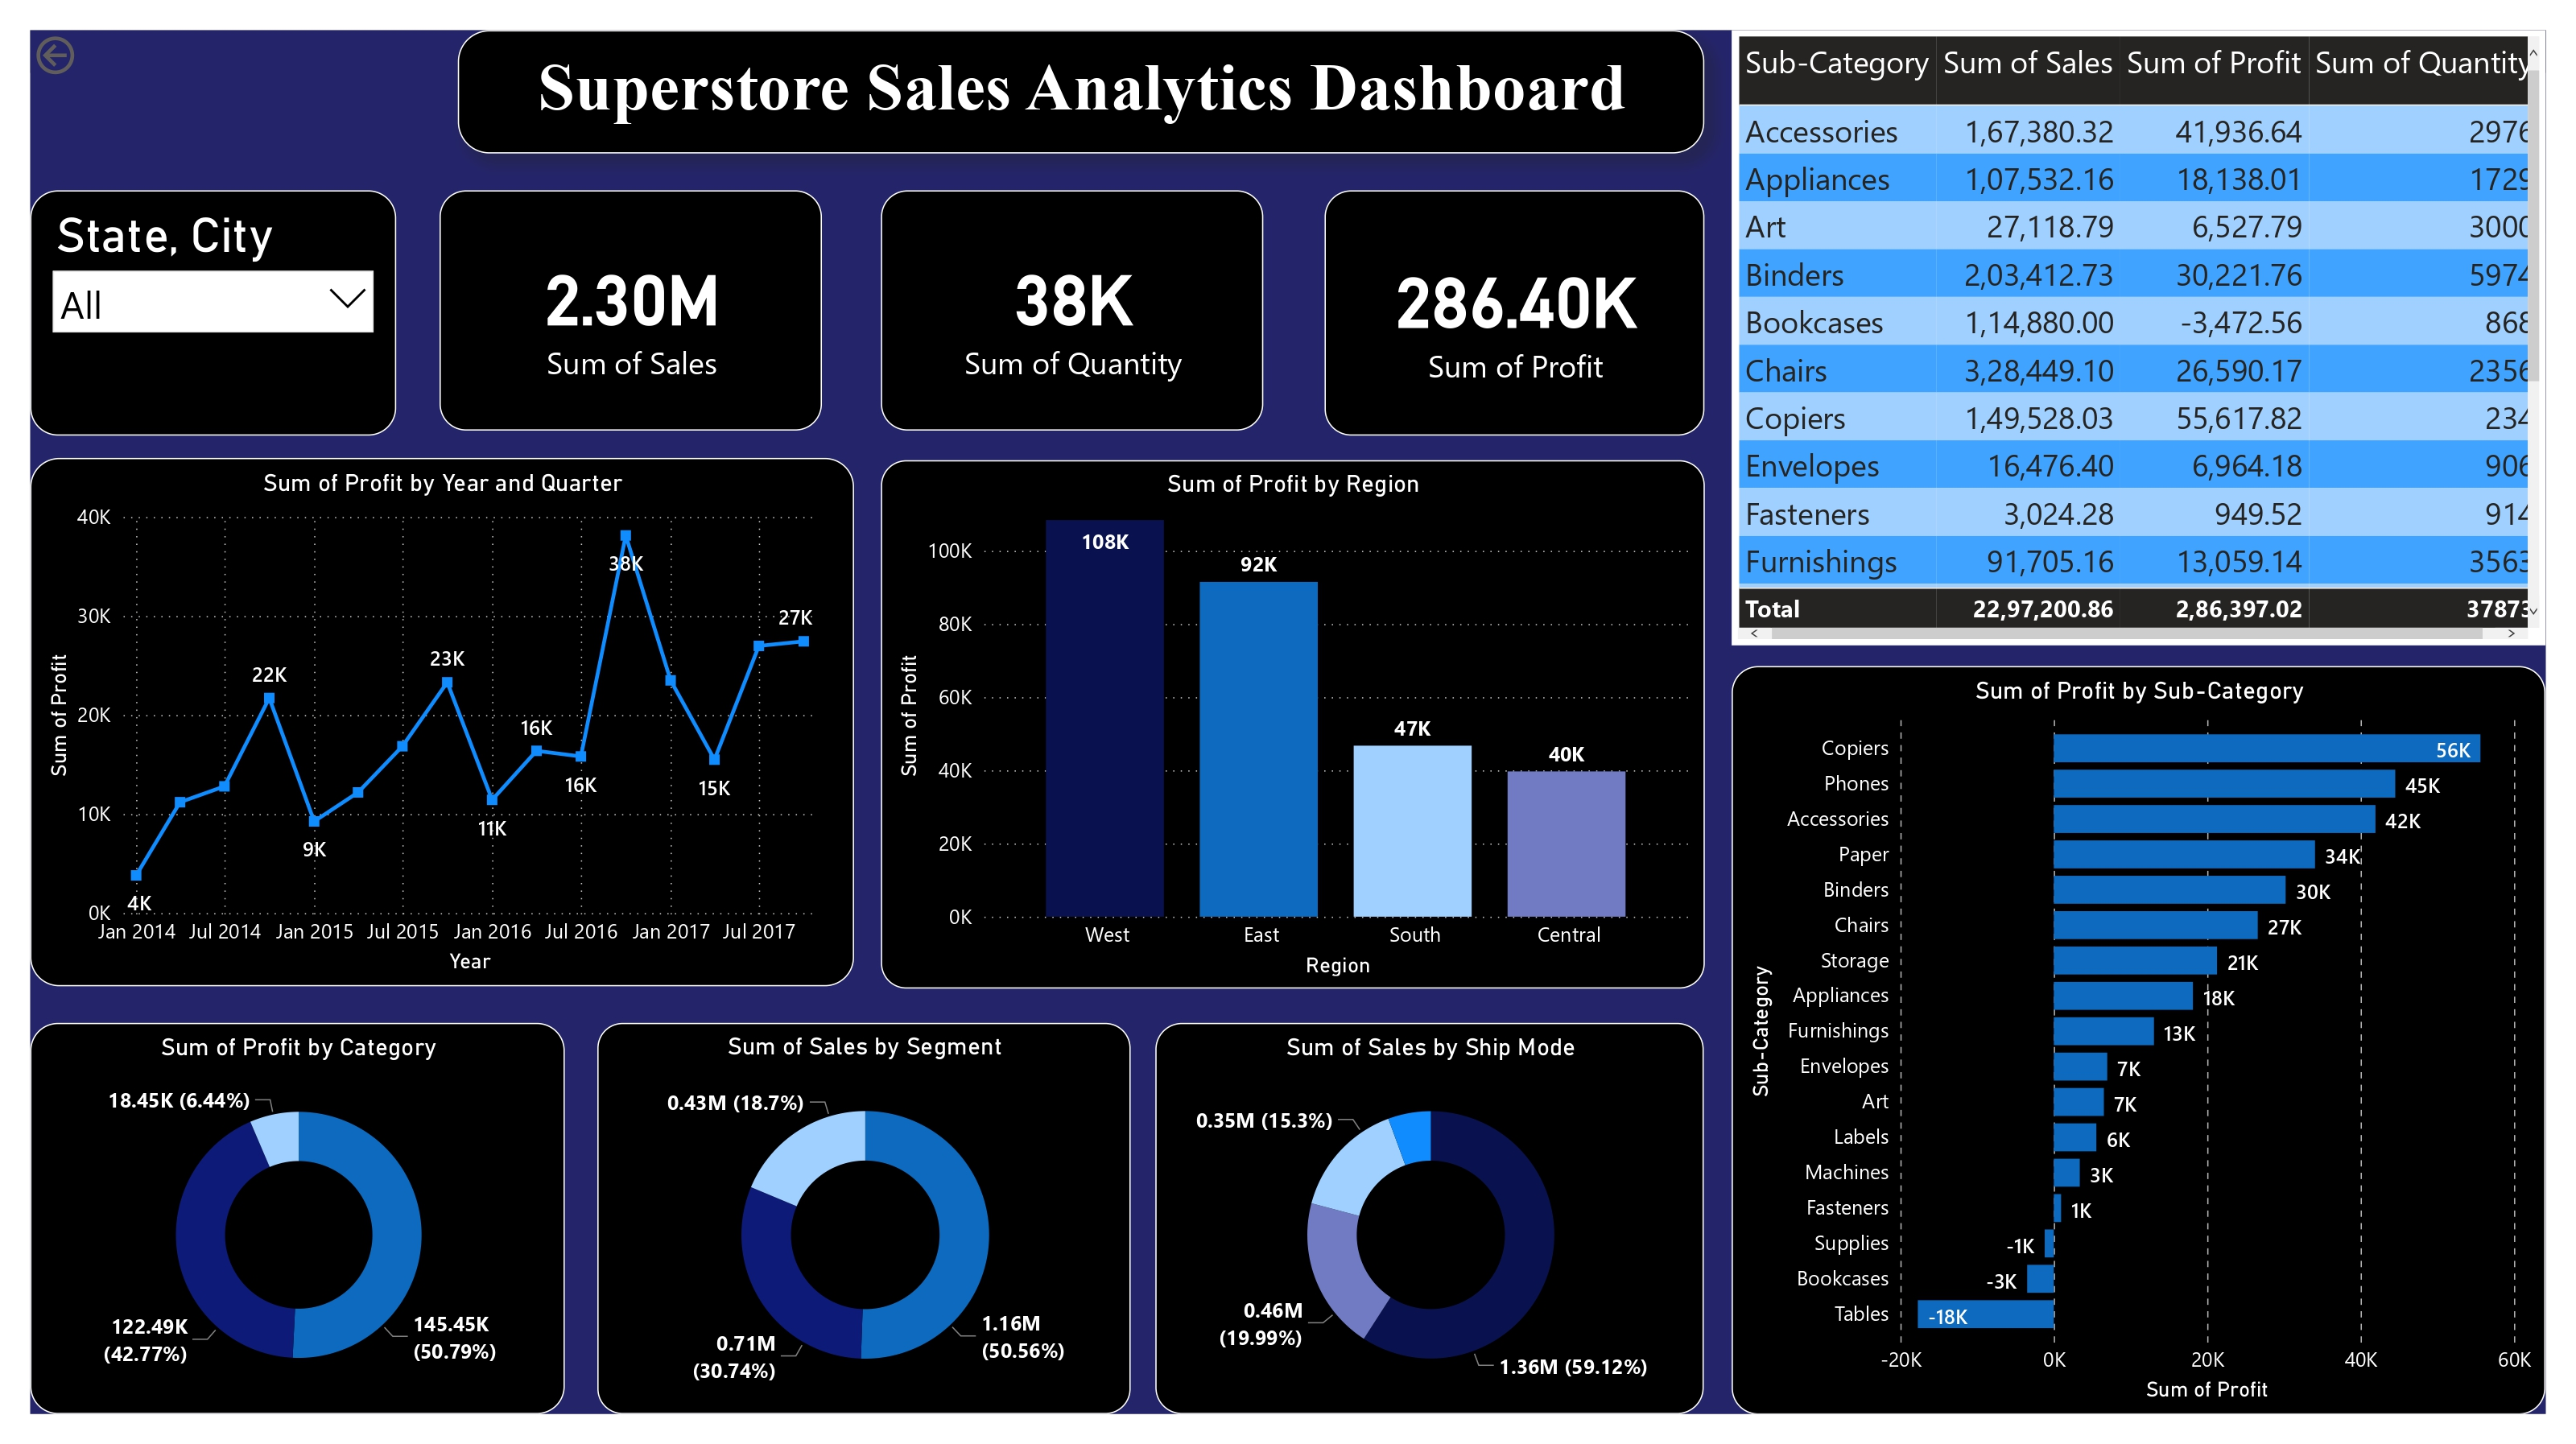

Layout of this report page (visuals, bound fields, positions):
{"tool":"powerbi","page":{"name":"Page 1","canvas":[2000,1100],"ordinal":0},"visuals":[{"type":"textbox","box":[340,0,990.9,98.2],"z":0},{"type":"donutChart","fields":{"Category":["Sample - Superstore.Category"],"Y":["Sum(Sample - Superstore.Profit)"]},"box":[0,789.1,425.5,310.9],"z":1000},{"type":"actionButton","box":[0,0,54.7,40.5],"z":2000},{"type":"columnChart","fields":{"Category":["Sample - Superstore.Region"],"Y":["Sum(Sample - Superstore.Profit)"]},"box":[676.4,341.8,654.5,420],"z":3000},{"type":"donutChart","fields":{"Category":["Sample - Superstore.Segment"],"Y":["Sum(Sample - Superstore.Sales)"]},"box":[450.9,789.1,423.6,310.9],"z":4000},{"type":"barChart","fields":{"Category":["Sample - Superstore.Sub-Category"],"Y":["Sum(Sample - Superstore.Profit)"]},"box":[1352.7,505.5,647.3,594.5],"z":5000},{"type":"lineChart","fields":{"Y":["Sum(Sample - Superstore.Profit)"],"Category":["Sample - Superstore.Order Date.Variation.Date Hierarchy.Year","Sample - Superstore.Order Date.Variation.Date Hierarchy.Quarter","Sample - Superstore.Order Date.Variation.Date Hierarchy.Month","Sample - Superstore.Order Date.Variation.Date Hierarchy.Day"]},"box":[0,340,654.5,420],"z":6000},{"type":"slicer","fields":{"Values":["Sample - Superstore.State","Sample - Superstore.City"]},"box":[0,127.3,290.9,194.5],"z":7000},{"type":"donutChart","fields":{"Category":["Sample - Superstore.Ship Mode"],"Y":["Sum(Sample - Superstore.Sales)"]},"box":[894.5,789.1,436.4,310.9],"z":8000},{"type":"tableEx","fields":{"Values":["Sample - Superstore.Sub-Category","Sum(Sample - Superstore.Sales)","Sum(Sample - Superstore.Profit)","Sum(Sample - Superstore.Quantity)"]},"box":[1352.7,0,647.3,489.1],"z":9000},{"type":"card","fields":{"Values":["Sum(Sample - Superstore.Sales)"]},"box":[325.5,127.3,303.6,190.9],"z":10000},{"type":"card","fields":{"Values":["Sum(Sample - Superstore.Quantity)"]},"box":[676.4,127.3,303.6,190.9],"z":11000},{"type":"card","fields":{"Values":["Sum(Sample - Superstore.Profit)"]},"box":[1029.1,127.3,301.8,194.5],"z":12000}]}

Visuals, with their boxes in screenshot pixels (x1, y1, x2, y2):
textbox: <box>458,31,1704,154</box>
donutChart - Sample - Superstore.Category x Sum(Sample - Superstore.Profit): <box>31,1023,565,1413</box>
actionButton: <box>31,31,99,81</box>
columnChart - Sample - Superstore.Region x Sum(Sample - Superstore.Profit): <box>881,460,1704,988</box>
donutChart - Sample - Superstore.Segment x Sum(Sample - Superstore.Sales): <box>597,1023,1130,1413</box>
barChart - Sample - Superstore.Sub-Category x Sum(Sample - Superstore.Profit): <box>1732,666,2545,1413</box>
lineChart - Sum(Sample - Superstore.Profit) x Sample - Superstore.Order Date.Variation.Date Hierarchy.Year: <box>31,458,853,986</box>
slicer - Sample - Superstore.State x Sample - Superstore.City: <box>31,190,396,435</box>
donutChart - Sample - Superstore.Ship Mode x Sum(Sample - Superstore.Sales): <box>1155,1023,1704,1413</box>
tableEx - Sample - Superstore.Sub-Category x Sum(Sample - Superstore.Sales): <box>1732,31,2545,646</box>
card - Sum(Sample - Superstore.Sales): <box>440,190,821,431</box>
card - Sum(Sample - Superstore.Quantity): <box>881,190,1263,431</box>
card - Sum(Sample - Superstore.Profit): <box>1324,190,1704,435</box>
